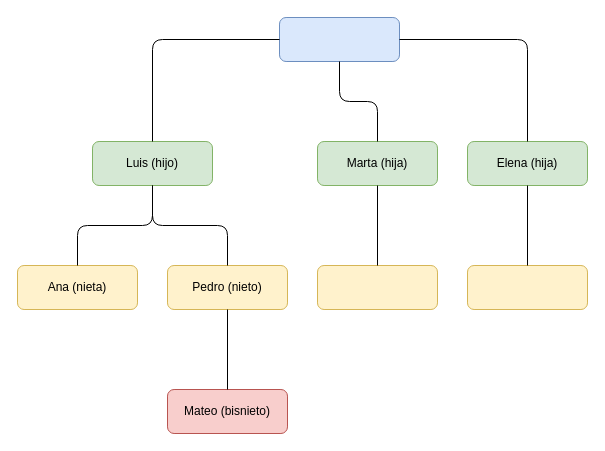
The diagram is 605 pixels wide and 451 high, and some of its shapes have lost their labels. Here are the shapes that lost their labels. From the top down, the centre of each, then its label:
At point (339, 39): "Carlos (abuelo)".
At point (377, 287): "Sofía (nieta)".
At point (527, 287): "Julián (nieto)".
